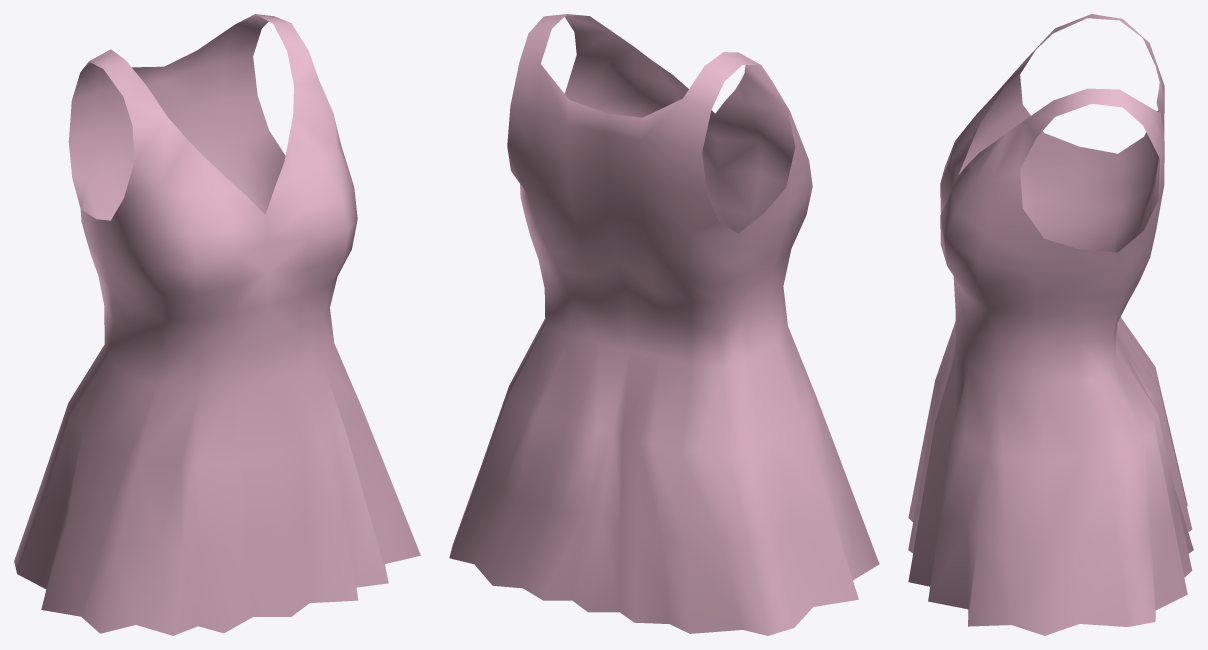
Rendered from blouse_19.glb.
The picture shows the model from 3 angles, left to right: view 1: azimuth 30°, elevation 25°; view 2: azimuth 150°, elevation 25°; view 3: azimuth 270°, elevation 25°; orthographic projection. The views are drawn at different scales.
Visible parts, largest first — view 1: blouse_19; view 2: blouse_19; view 3: blouse_19.
Part boxes in pixels (x1=…): blouse_19: x1=14, y1=14, x2=420, y2=635; blouse_19: x1=449, y1=14, x2=879, y2=635; blouse_19: x1=908, y1=14, x2=1193, y2=635.
Bounding box in the file's own units: 0.4469 × 0.6025 × 0.314.
